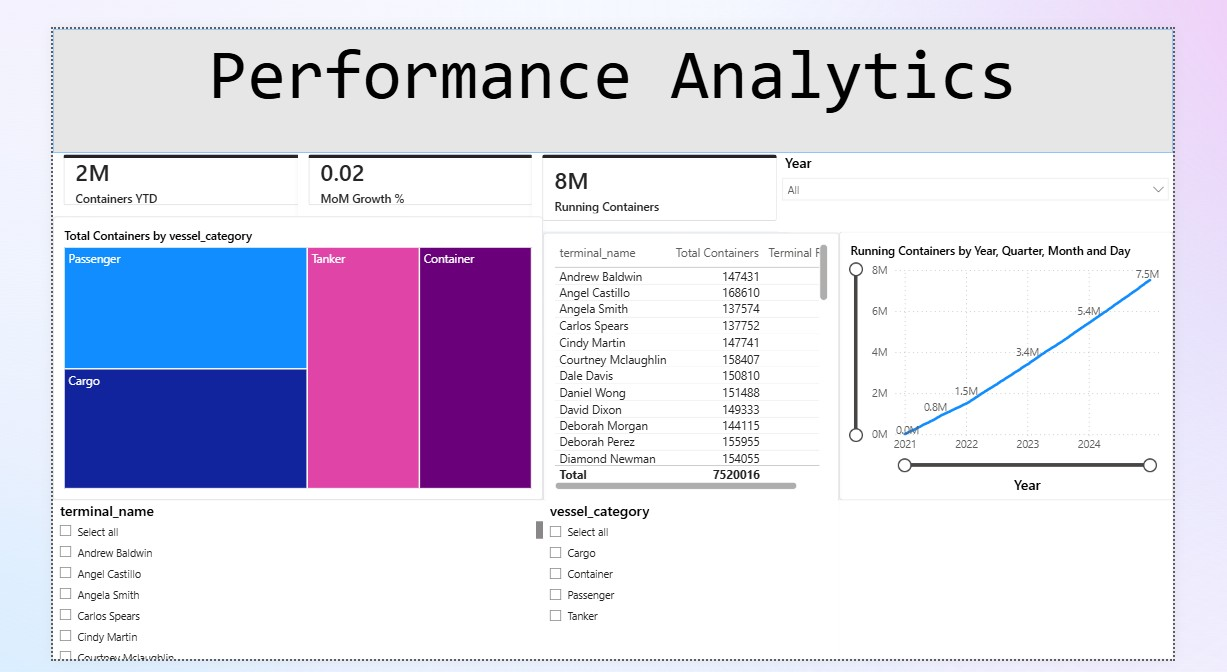

The page's visual inventory and layout, read from the dashboard file:
{"tool":"powerbi","page":{"name":"Performance Analytics","canvas":[1280,720],"ordinal":1},"visuals":[{"type":"cardVisual","fields":{"Data":["dim_terminal.Containers YTD"]},"box":[0,131.4,294.3,82.9],"z":0},{"type":"cardVisual","fields":{"Data":["dim_terminal.MoM Growth %","dim_terminal.MoM Growth %"]},"box":[280,131.4,280,82.9],"z":1000},{"type":"cardVisual","fields":{"Data":["dim_terminal.Running Containers"]},"box":[547.1,131.4,292.9,100],"z":2000},{"type":"lineChart","fields":{"Y":["dim_terminal.Running Containers"],"Category":["dim_time.date_id.Variation.Date Hierarchy.Year","dim_time.date_id.Variation.Date Hierarchy.Quarter","dim_time.date_id.Variation.Date Hierarchy.Month","dim_time.date_id.Variation.Date Hierarchy.Day"]},"box":[898.6,231.4,381.4,307.1],"z":3000},{"type":"tableEx","fields":{"Values":["dim_terminal.terminal_name","dim_terminal.Total Containers","dim_terminal.Terminal Rank"]},"box":[560,232.9,338.6,307.1],"z":4000},{"type":"treemap","fields":{"Group":["dim_vessel.vessel_category"],"Values":["dim_terminal.Total Containers"]},"box":[0,214.3,560,324.3],"z":5000},{"type":"slicer","fields":{"Values":["dim_time.date_id.Variation.Date Hierarchy.Year"]},"box":[828.6,141.4,451.4,90],"z":6000},{"type":"slicer","fields":{"Values":["dim_terminal.terminal_name"]},"box":[0,538.6,560,181.4],"z":7000},{"type":"slicer","fields":{"Values":["dim_vessel.vessel_category"]},"box":[560,538.6,338.6,181.4],"z":8000},{"type":"textbox","box":[899,539,381,181],"z":9000},{"type":"textbox","box":[0,0,1280,141.4],"z":10000}]}

Visuals, with their boxes in screenshot pixels (x1, y1, x2, y2), scaled from the page's 1280x720 canvas onto the 1227x672 screenshot:
cardVisual - dim_terminal.Containers YTD: left=0, top=123, right=282, bottom=200
cardVisual - dim_terminal.MoM Growth % x dim_terminal.MoM Growth %: left=268, top=123, right=537, bottom=200
cardVisual - dim_terminal.Running Containers: left=524, top=123, right=805, bottom=216
lineChart - dim_terminal.Running Containers x dim_time.date_id.Variation.Date Hierarchy.Year: left=861, top=216, right=1226, bottom=503
tableEx - dim_terminal.terminal_name x dim_terminal.Total Containers: left=537, top=217, right=861, bottom=504
treemap - dim_vessel.vessel_category x dim_terminal.Total Containers: left=0, top=200, right=537, bottom=503
slicer - dim_time.date_id.Variation.Date Hierarchy.Year: left=794, top=132, right=1226, bottom=216
slicer - dim_terminal.terminal_name: left=0, top=503, right=537, bottom=671
slicer - dim_vessel.vessel_category: left=537, top=503, right=861, bottom=671
textbox: left=862, top=503, right=1226, bottom=671
textbox: left=0, top=0, right=1226, bottom=132
